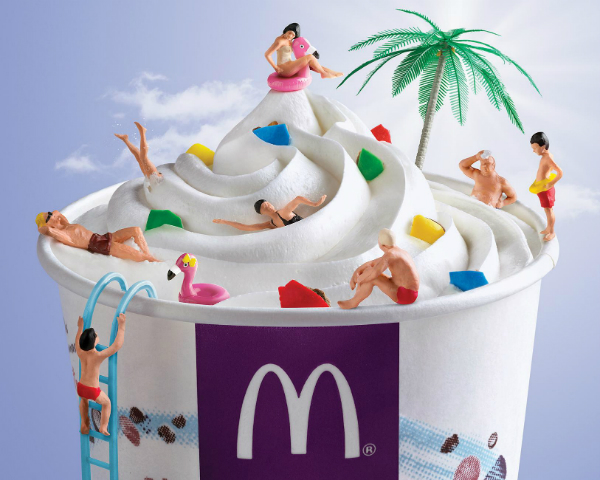mcdonalds: (231, 360, 365, 467)
